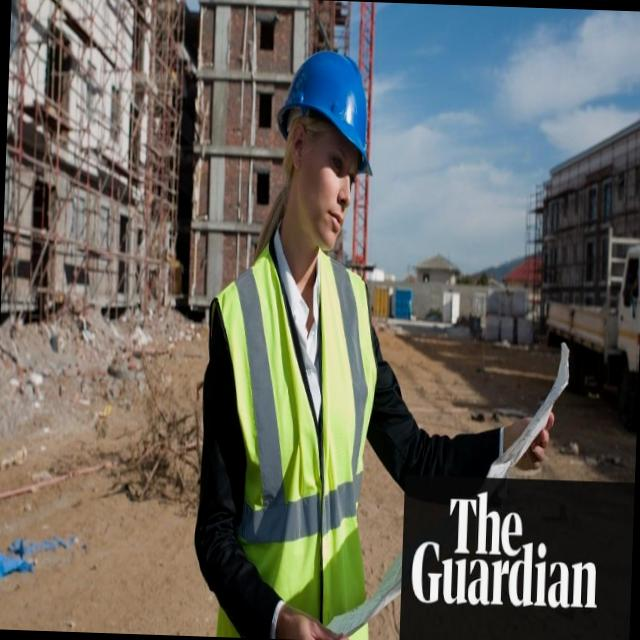helmet: (280, 45, 374, 176)
vest: (212, 240, 369, 640)
